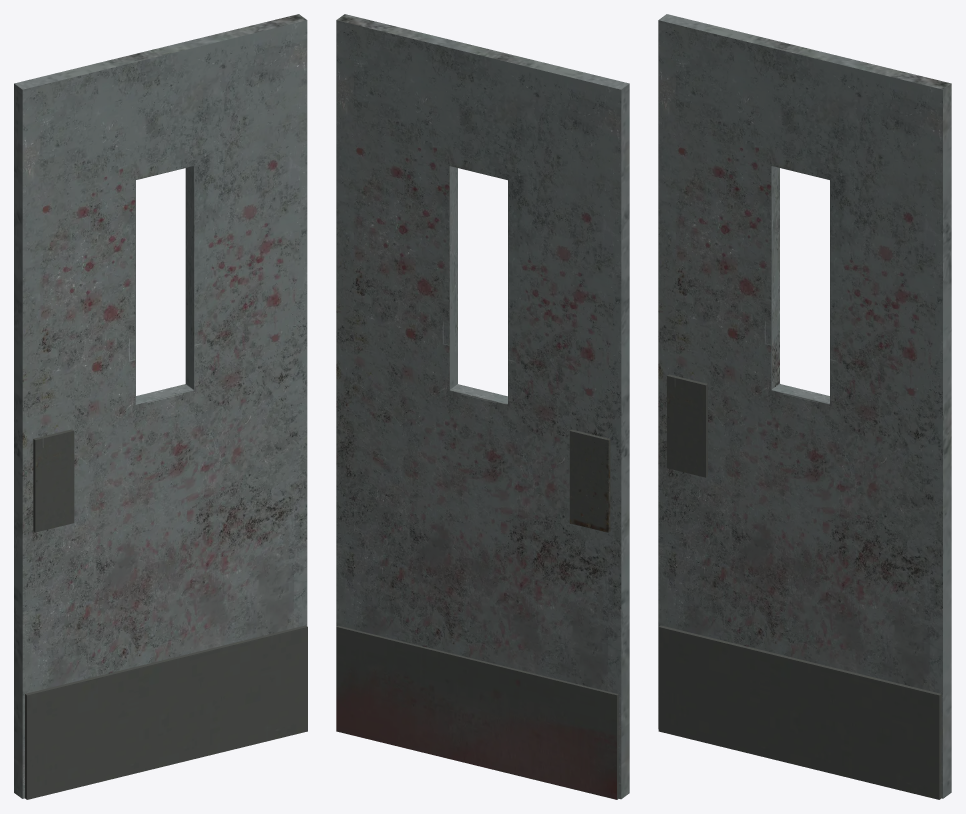
Rendered from door_leaf_r.glb.
3 renders of one model, left to right at view 1: azimuth 30°, elevation 25°; view 2: azimuth 150°, elevation 25°; view 3: azimuth 330°, elevation 25°, orthographic.
Parts seen in each view (by area): view 1: door_leaf_r; view 2: door_leaf_r; view 3: door_leaf_r.
Part boxes in pixels (x1,y1,x2,y2): door_leaf_r: (14,14,307,799); door_leaf_r: (336,14,629,799); door_leaf_r: (658,14,951,799).
Bounding box in the file's own units: 0.9784 × 2.33 × 0.0747.
2 materials, 2 textured.
